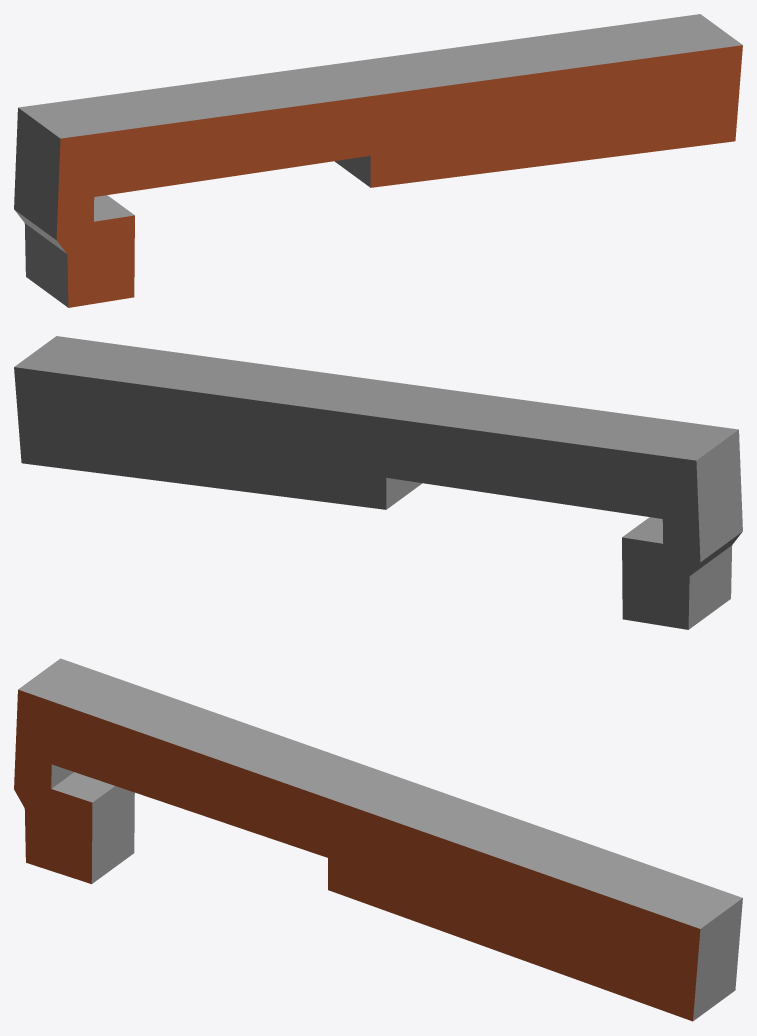
Rendered from construction_2241_assumed_A_Casa_h6m.obj.
3 renders of one model, top to bottom at view 1: azimuth 30°, elevation 25°; view 2: azimuth 150°, elevation 25°; view 3: azimuth 330°, elevation 25°, orthographic.
Visible parts, largest first — view 1: construction_2241_assumed_A_Casa; view 2: construction_2241_assumed_A_Casa; view 3: construction_2241_assumed_A_Casa.
Boxes of the visible parts, x1,y1,x2,y2 form: construction_2241_assumed_A_Casa: (14,14,742,307); construction_2241_assumed_A_Casa: (14,336,742,629); construction_2241_assumed_A_Casa: (14,658,742,1021).
Size of the model in its own units: 55.91 by 13.75 by 6.
